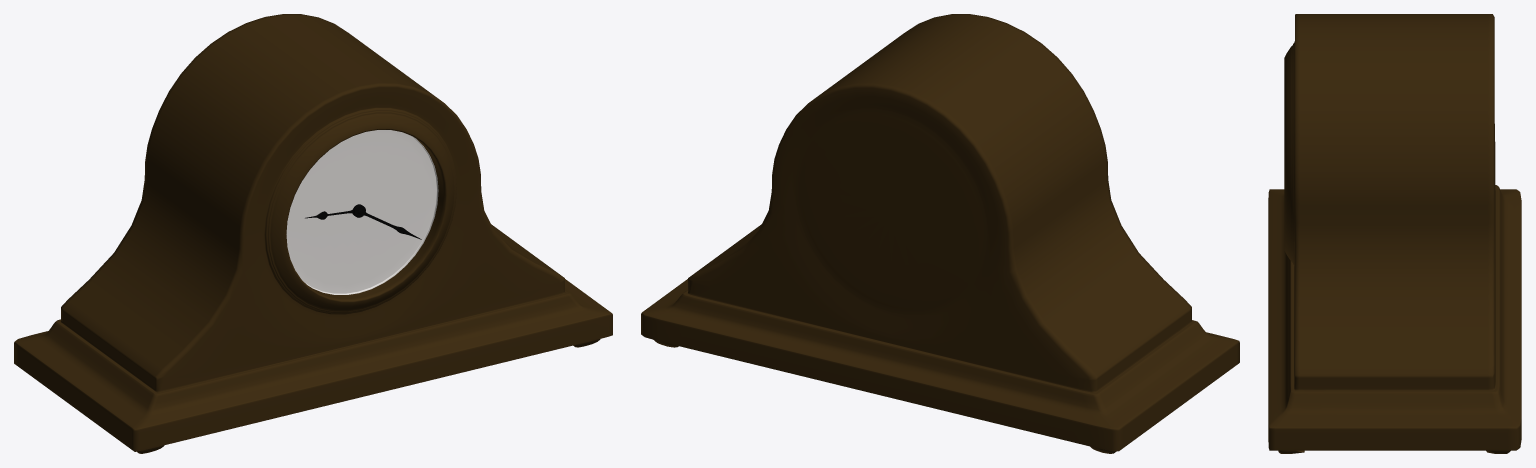
Rendered from Clock.fbx.
3 views of the same model, side by side, from view 1: azimuth 30°, elevation 25°; view 2: azimuth 150°, elevation 25°; view 3: azimuth 270°, elevation 25° (orthographic). The views are drawn at different scales.
Visible parts, largest first — view 1: Clock; view 2: Clock; view 3: Clock.
Boxes of the visible parts, <box> form: Clock: <box>14,14,612,453</box>; Clock: <box>641,14,1239,453</box>; Clock: <box>1268,14,1521,453</box>.
Bounding box in the file's own units: 58.56 × 36.01 × 26.23.
